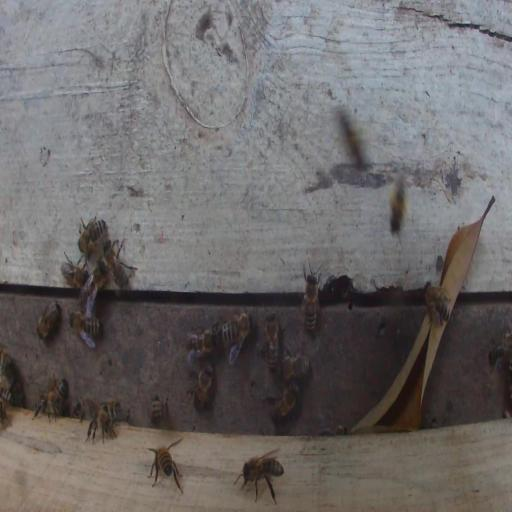nonpollenbee: (234, 452, 284, 505), (218, 311, 254, 363), (300, 253, 322, 335), (103, 238, 138, 288), (147, 446, 184, 493), (186, 361, 214, 411), (1, 346, 24, 406), (81, 262, 109, 309), (339, 110, 362, 165), (424, 283, 451, 328), (78, 216, 106, 259), (69, 309, 101, 345), (268, 384, 298, 421), (186, 324, 218, 357), (263, 310, 279, 376), (61, 250, 88, 289), (83, 399, 111, 434), (487, 330, 511, 370), (36, 302, 60, 339), (281, 352, 311, 381), (35, 396, 58, 416), (150, 396, 163, 429), (50, 379, 67, 404), (100, 402, 119, 420), (0, 387, 14, 405), (0, 400, 7, 426)
pollenbee: (391, 176, 406, 234)
